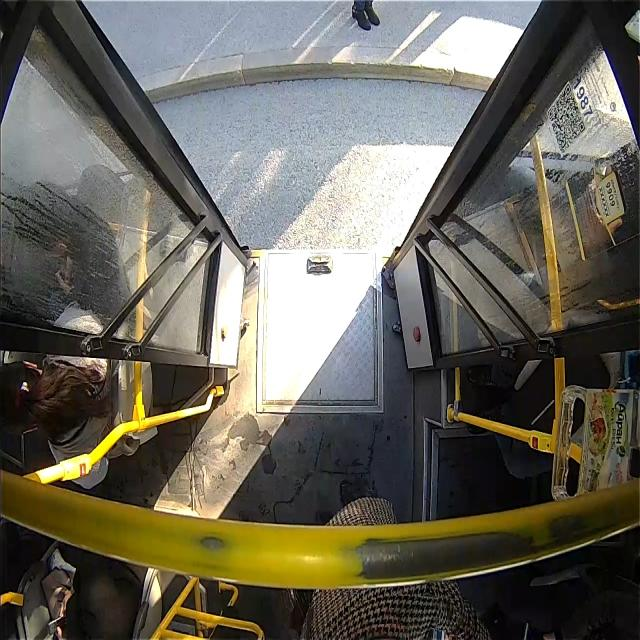bus-door: (388, 5, 640, 388), (0, 3, 250, 372)
